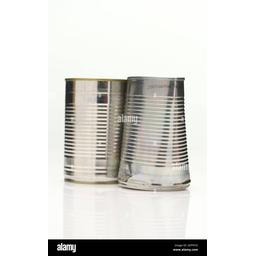metal: (112, 70, 201, 203), (52, 68, 136, 190)
